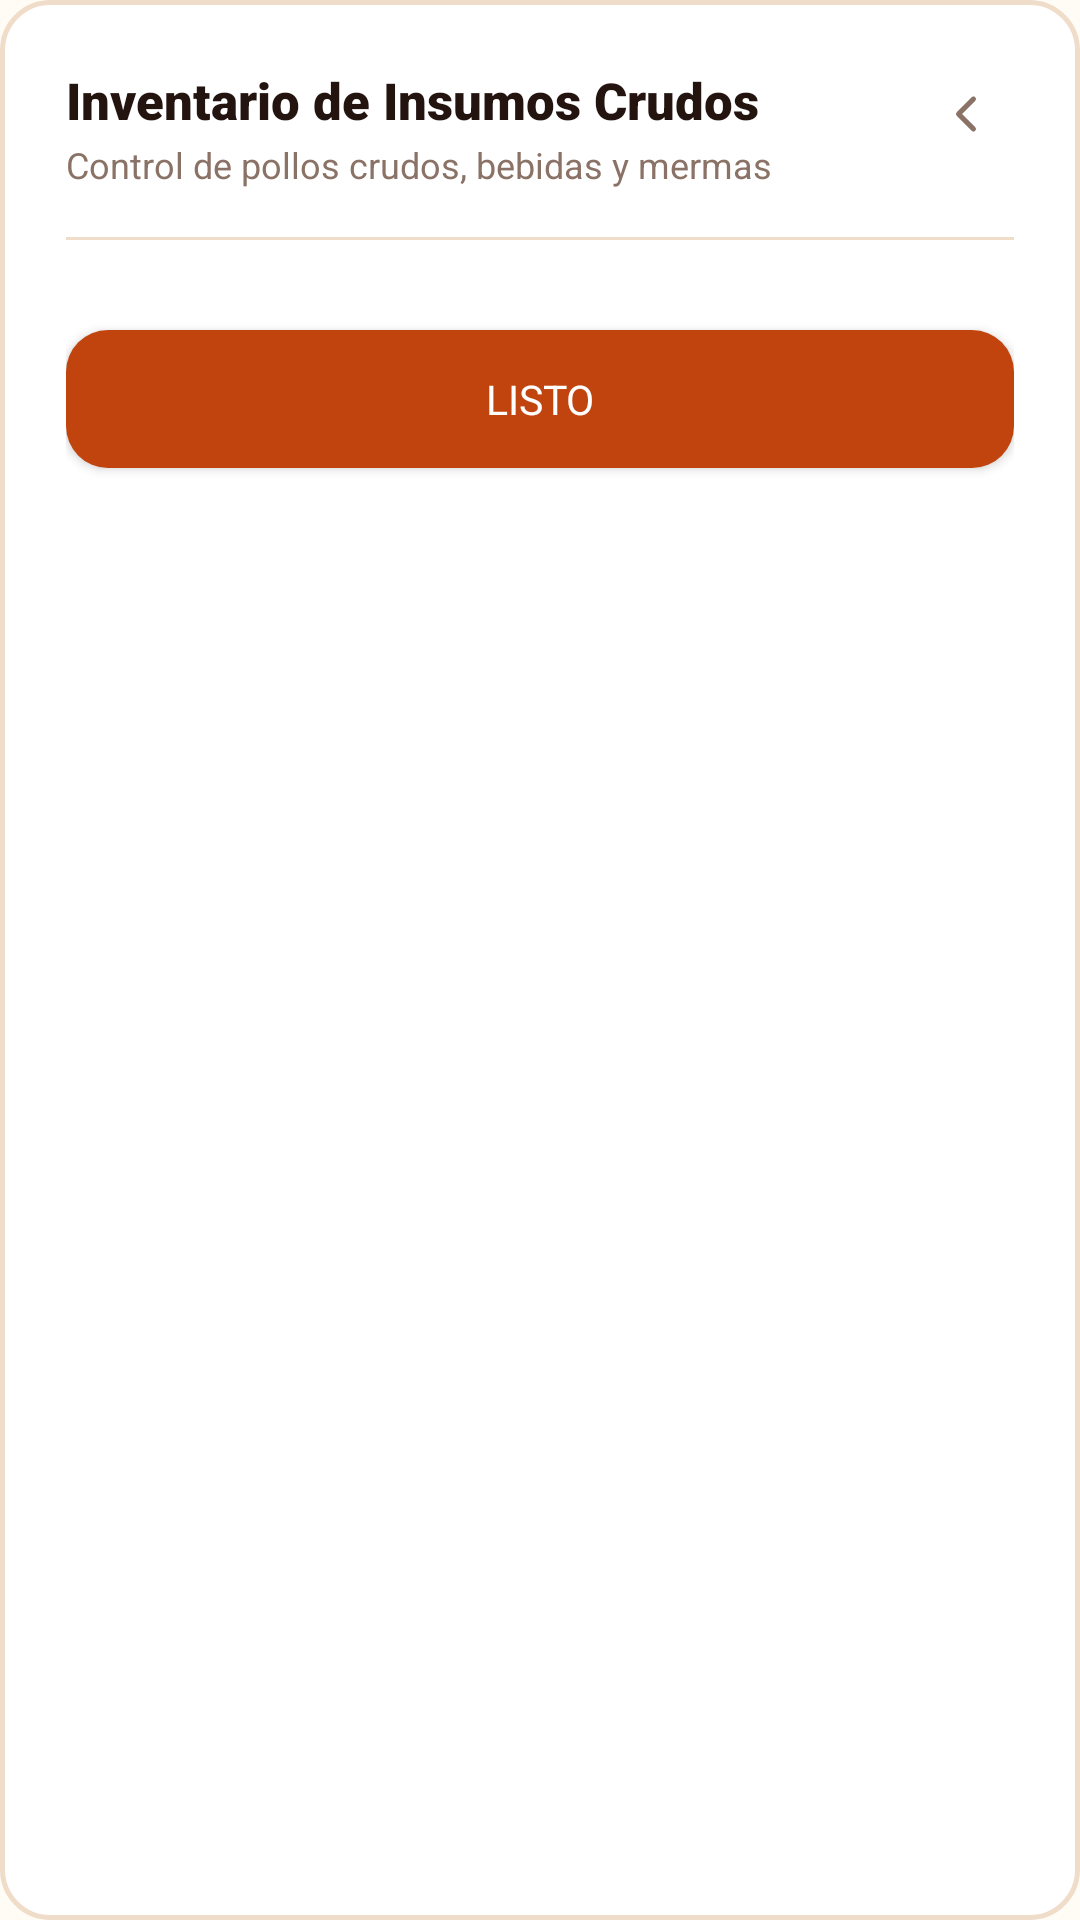

Named icons in this screenshot (1080px x 1920px) and their centers, [x,y]:
back arrow: [966,114]
